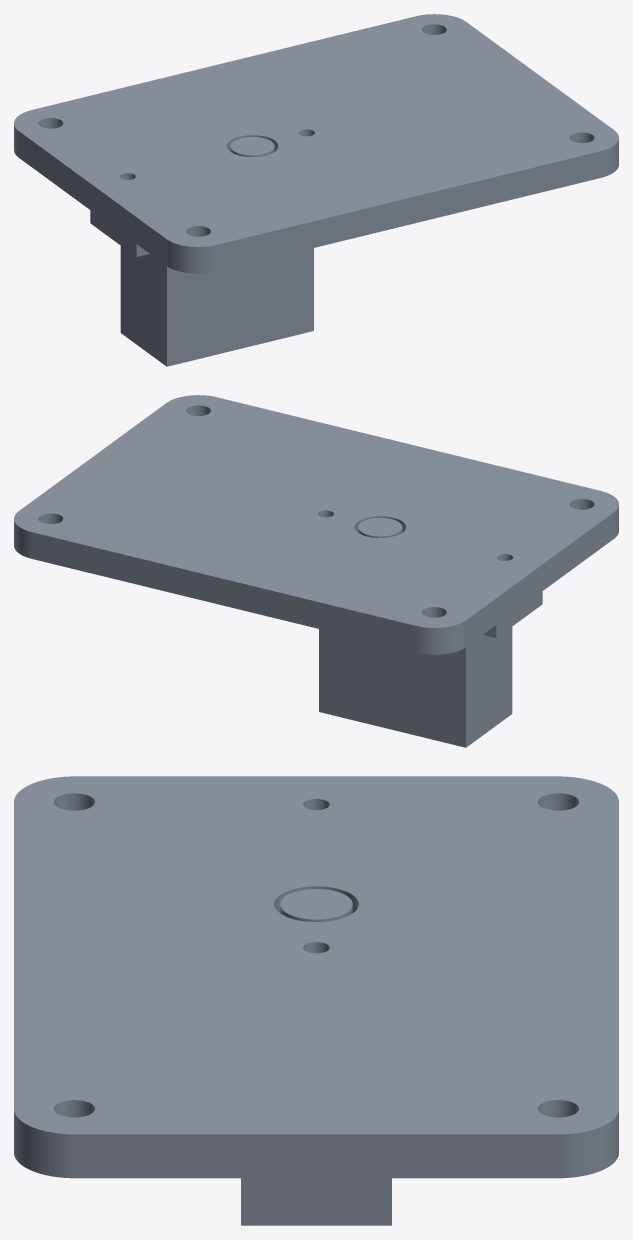
File: step-2.glb
The picture shows the model from 3 angles, top to bottom: view 1: azimuth 30°, elevation 25°; view 2: azimuth 150°, elevation 25°; view 3: azimuth 270°, elevation 25°; orthographic projection. The views are drawn at different scales.
Visible parts, largest first — view 1: face_f594c5b01ec607e2c350, face_587b5f540bef7b1a8fe7, face_90e705d0b79c586715c6, face_a6bdd665ad03e92fe804, face_af3e0bfc63ac36b18648, face_266579ef883e43a1ff22, face_8d33bd4faab2ff1a0f7a, face_3bb73968065eab68e24a, face_ef8d59ee62935898d1df; view 2: face_f594c5b01ec607e2c350, face_fc6b88b5daad128f4f4d, face_1713bfa9cd2cdc202364, face_a6bdd665ad03e92fe804, face_af3e0bfc63ac36b18648, face_5ee39c3ce899d2fd9e17, face_8d33bd4faab2ff1a0f7a, face_3bb73968065eab68e24a, face_9925c98cc6b5da2f5129; view 3: face_f594c5b01ec607e2c350, face_4eaf18a6b39c55dc2bdb, face_031fd7391f5aafb7ffc9, face_ef8d59ee62935898d1df, face_9925c98cc6b5da2f5129, face_8d33bd4faab2ff1a0f7a.
Boxes of the visible parts, x1=… form: face_f594c5b01ec607e2c350: x1=14, y1=14, x2=618, y2=246; face_587b5f540bef7b1a8fe7: x1=136, y1=244, x2=313, y2=366; face_90e705d0b79c586715c6: x1=217, y1=151, x2=600, y2=271; face_a6bdd665ad03e92fe804: x1=120, y1=246, x2=166, y2=366; face_af3e0bfc63ac36b18648: x1=19, y1=131, x2=166, y2=265; face_266579ef883e43a1ff22: x1=166, y1=239, x2=216, y2=273; face_8d33bd4faab2ff1a0f7a: x1=230, y1=136, x2=274, y2=155; face_3bb73968065eab68e24a: x1=90, y1=210, x2=136, y2=256; face_ef8d59ee62935898d1df: x1=600, y1=139, x2=618, y2=177; face_f594c5b01ec607e2c350: x1=14, y1=395, x2=618, y2=627; face_fc6b88b5daad128f4f4d: x1=319, y1=625, x2=496, y2=747; face_1713bfa9cd2cdc202364: x1=32, y1=532, x2=415, y2=652; face_a6bdd665ad03e92fe804: x1=466, y1=627, x2=512, y2=747; face_af3e0bfc63ac36b18648: x1=466, y1=512, x2=613, y2=646; face_5ee39c3ce899d2fd9e17: x1=416, y1=620, x2=466, y2=654; face_8d33bd4faab2ff1a0f7a: x1=358, y1=517, x2=402, y2=536; face_3bb73968065eab68e24a: x1=496, y1=591, x2=542, y2=637; face_9925c98cc6b5da2f5129: x1=14, y1=520, x2=32, y2=558; face_f594c5b01ec607e2c350: x1=14, y1=776, x2=618, y2=1134; face_4eaf18a6b39c55dc2bdb: x1=74, y1=1134, x2=558, y2=1178; face_031fd7391f5aafb7ffc9: x1=241, y1=1178, x2=391, y2=1225; face_ef8d59ee62935898d1df: x1=14, y1=1111, x2=74, y2=1178; face_9925c98cc6b5da2f5129: x1=558, y1=1111, x2=618, y2=1178; face_8d33bd4faab2ff1a0f7a: x1=280, y1=889, x2=352, y2=919.
Size of the model in its own units: 0.07 by 0.0265 by 0.05.
